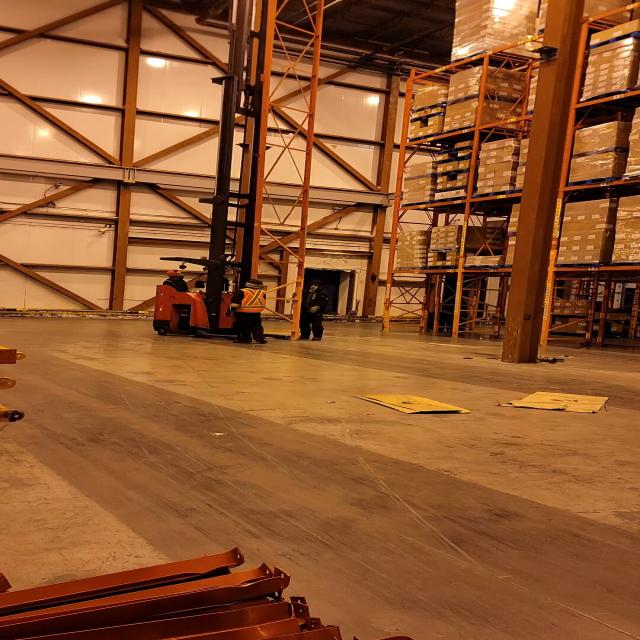forklift: (148, 195, 291, 347)
human: (222, 278, 274, 345), (286, 283, 337, 344), (155, 266, 196, 296)
objectofinterest: (244, 15, 312, 346), (491, 386, 616, 414), (353, 390, 473, 416)
